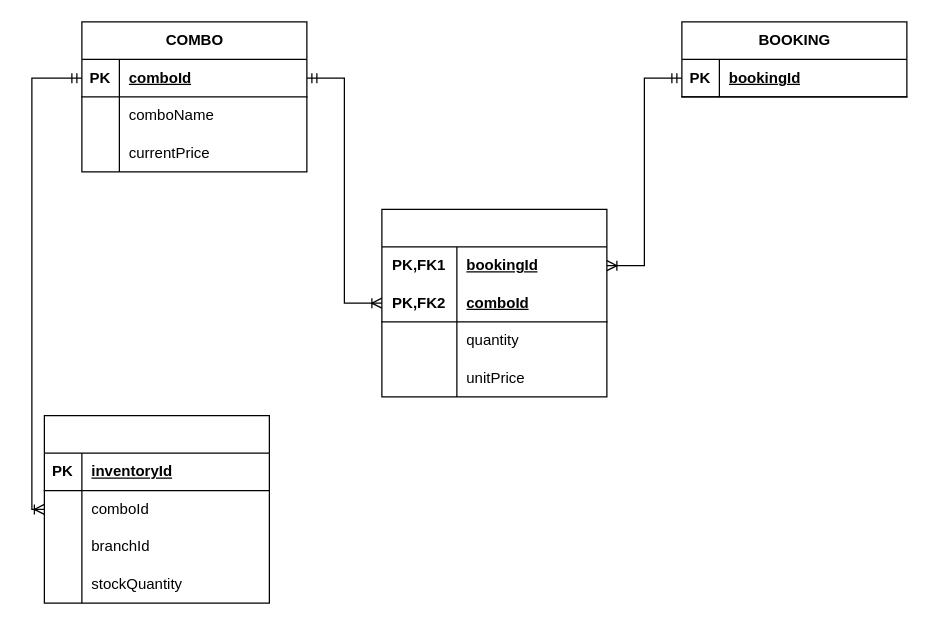
Some shapes in this 929 by 625 pixel diagram are drawn without their labels. Here are the shapes that lost their labels. From the top down, the box of each, then its label:
(381, 208, 607, 397): BOOKING_COMBO
(43, 414, 269, 603): COMBO_INVENTORY
